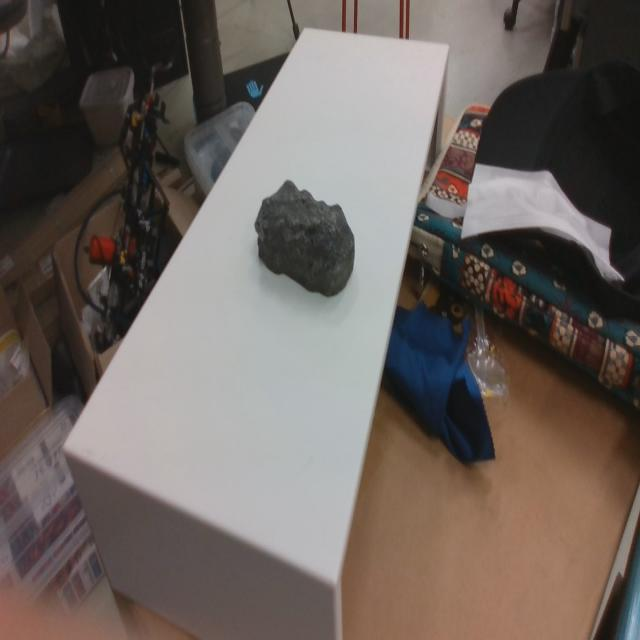stone: (255, 179, 355, 298)
